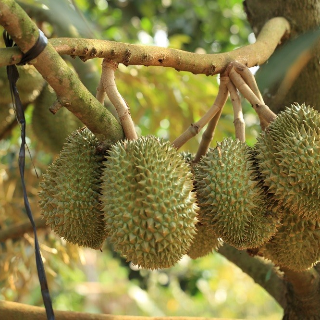sau_rieng: (100, 133, 202, 273), (199, 139, 273, 258)
